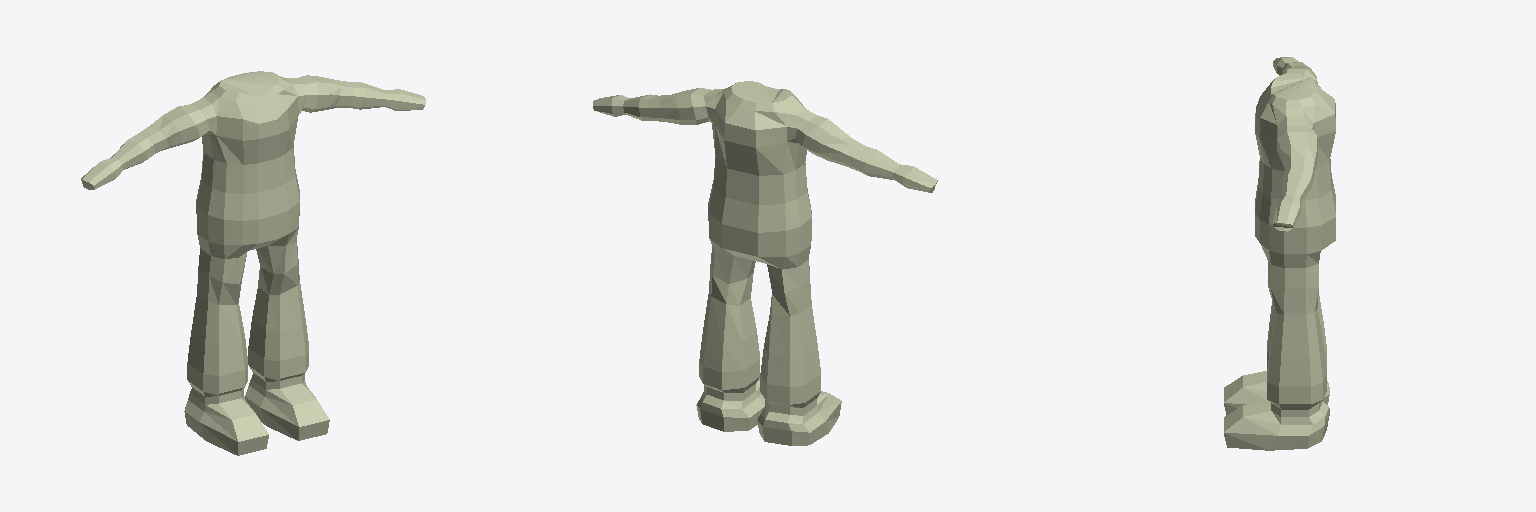
Rendered from lower.obj.
3 renders of one model, left to right at view 1: azimuth 30°, elevation 25°; view 2: azimuth 150°, elevation 25°; view 3: azimuth 270°, elevation 25°, orthographic.
Visible parts, largest first — view 1: body; view 2: body; view 3: body.
Boxes of the visible parts, <box> form: body: <box>81,71,425,455</box>; body: <box>593,81,937,445</box>; body: <box>1224,57,1335,450</box>.
Bounding box in the file's own units: 2.18 × 2.07 × 0.6237.